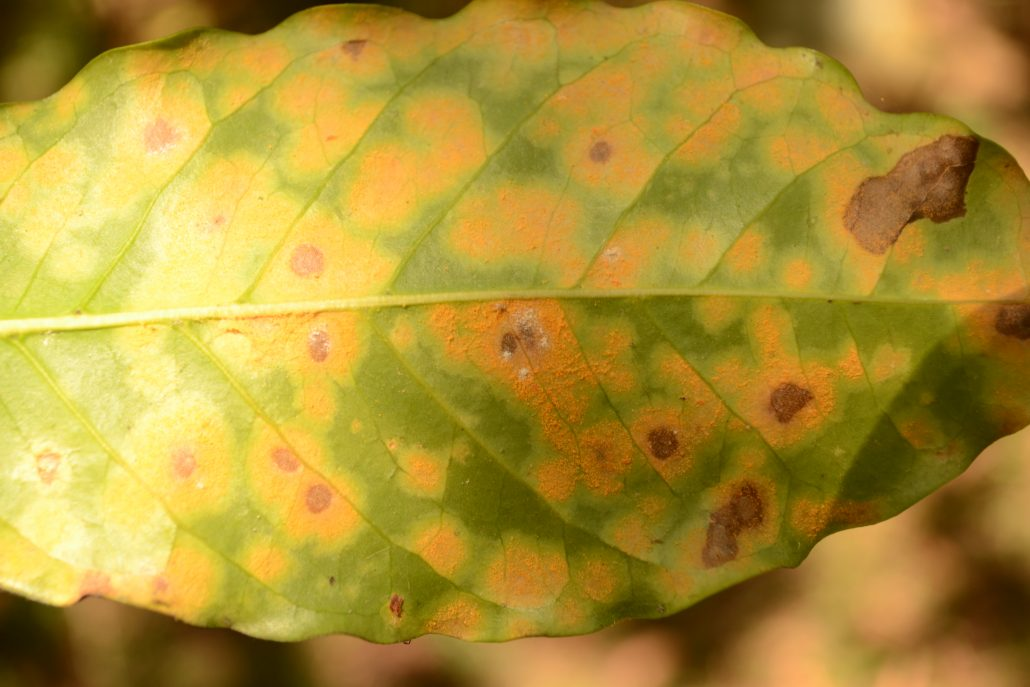roya: (58, 42, 829, 555)
